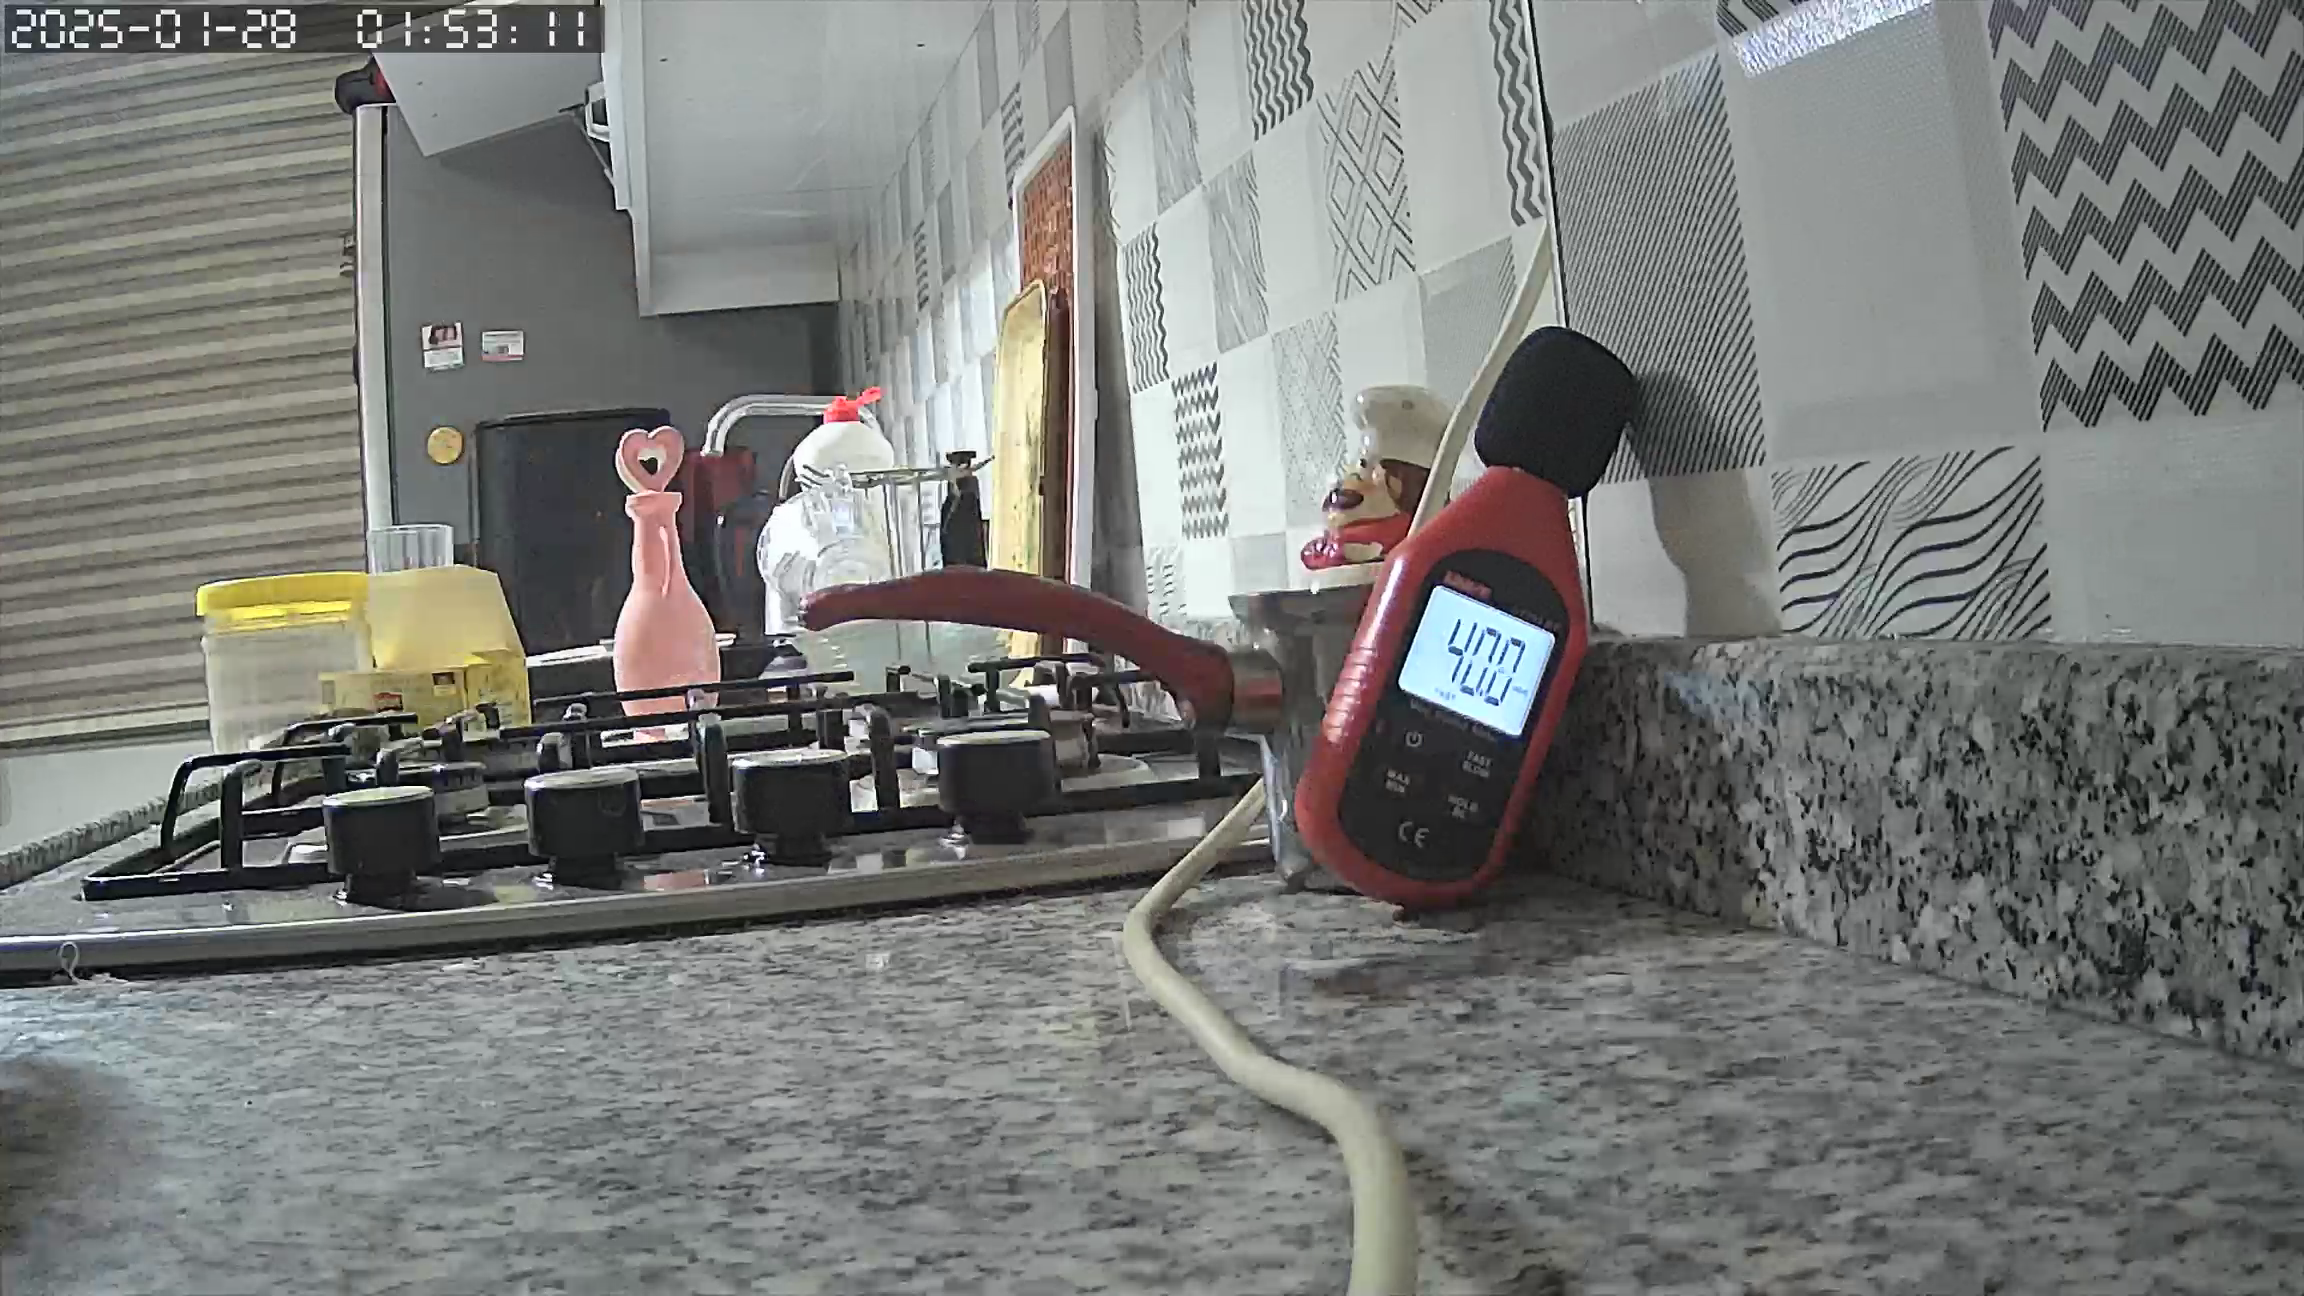screen: (1396, 585, 1554, 742)
